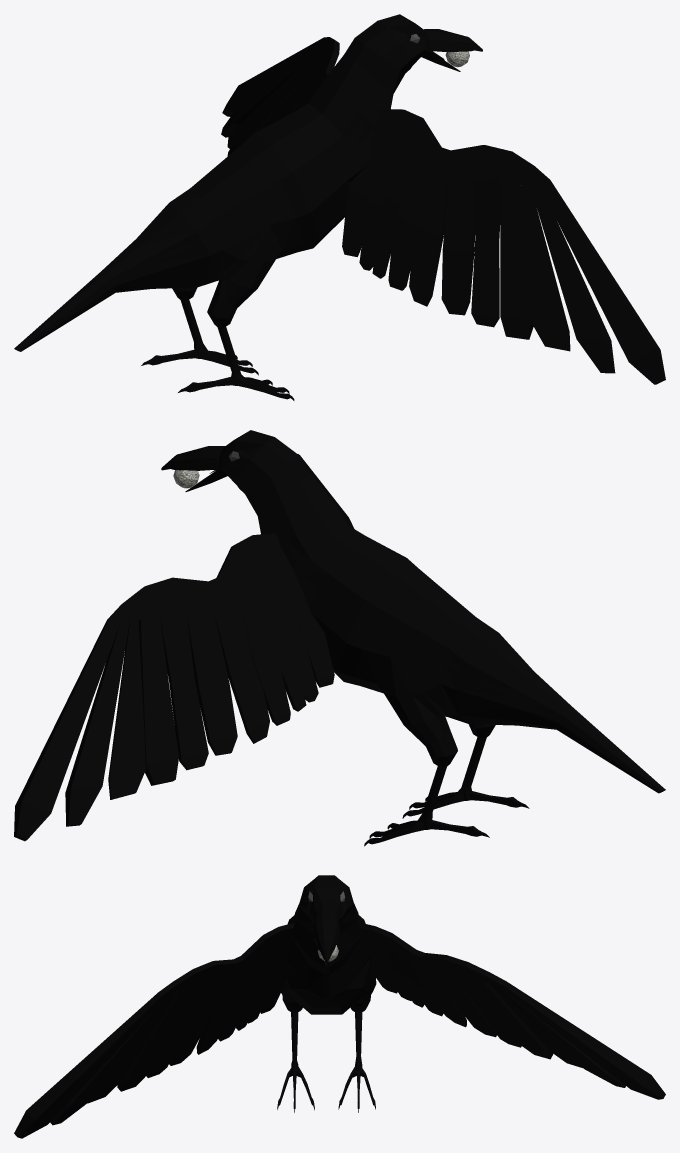
Rendered from crow_up_stone_000001.obj.
The picture shows the model from 3 angles, top to bottom: view 1: azimuth 30°, elevation 25°; view 2: azimuth 150°, elevation 25°; view 3: azimuth 270°, elevation 25°; orthographic projection. The views are drawn at different scales.
Parts seen in each view (by area): view 1: Cylinder; view 2: Cylinder; view 3: Cylinder.
Boxes of the visible parts, x1,y1,x2,y2 form: Cylinder: [14, 14, 665, 400]; Cylinder: [14, 430, 665, 846]; Cylinder: [14, 875, 665, 1138].
Size of the model in its own units: 1.55 by 1.02 by 2.11.
